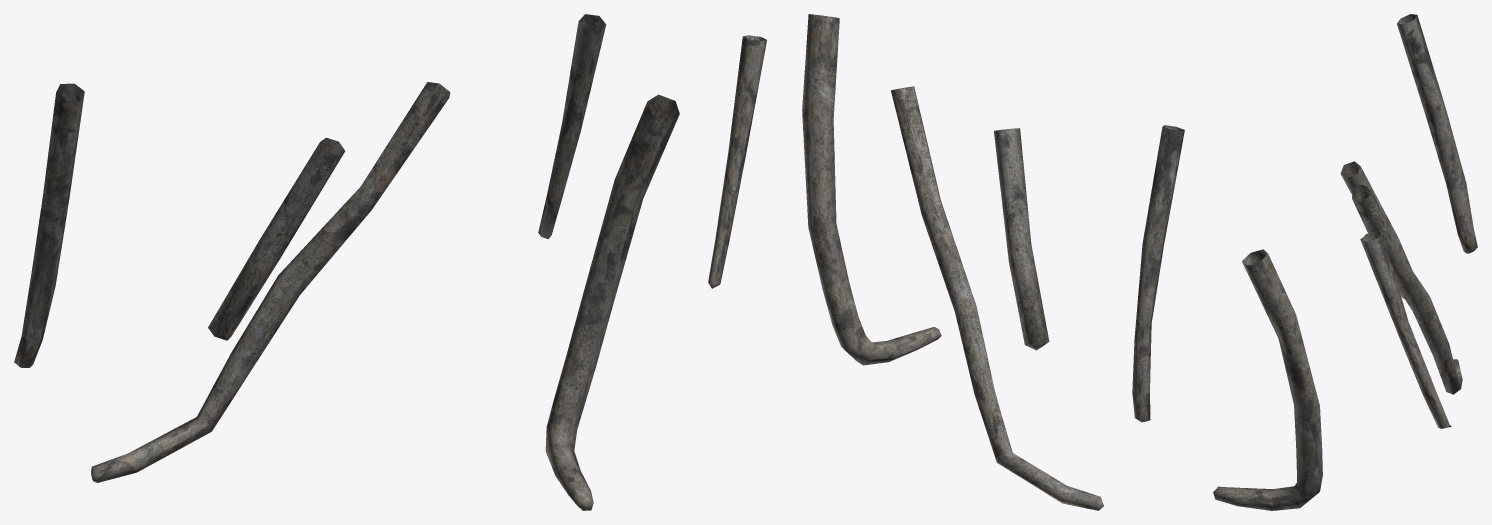
Rendered from tree03_02.fbx.
3 views of the same model, side by side, from view 1: azimuth 30°, elevation 25°; view 2: azimuth 150°, elevation 25°; view 3: azimuth 270°, elevation 25° (orthographic). The views are drawn at different scales.
Parts seen in each view (by area): view 1: tree03_02; view 2: tree03_02; view 3: tree03_02.
Part boxes in pixels (x1=…): tree03_02: x1=14, y1=14, x2=679, y2=510; tree03_02: x1=708, y1=14, x2=1184, y2=510; tree03_02: x1=1213, y1=14, x2=1477, y2=510.
Bounding box in the file's own units: 531 × 418 × 299.
